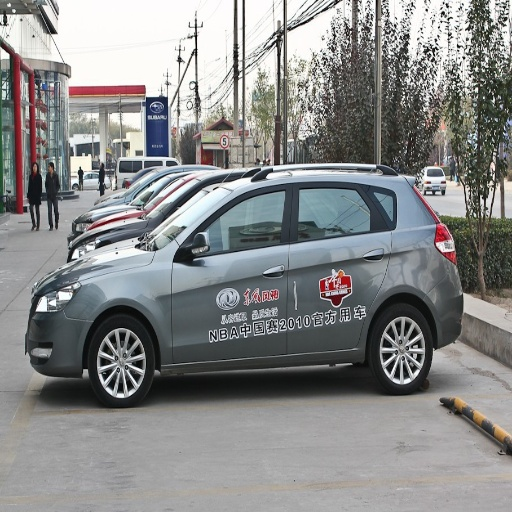back_left_door: (288, 179, 391, 352)
front_bumper: (27, 300, 89, 375)
front_left_door: (171, 180, 291, 360)
